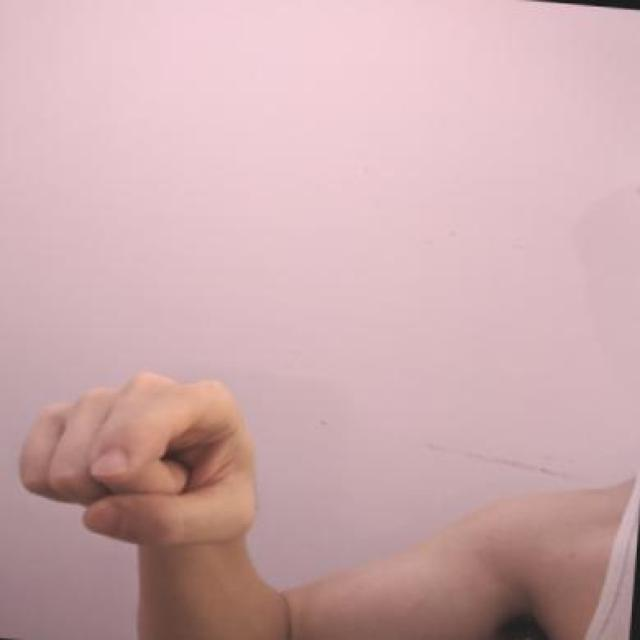Z: (5, 354, 281, 564)
